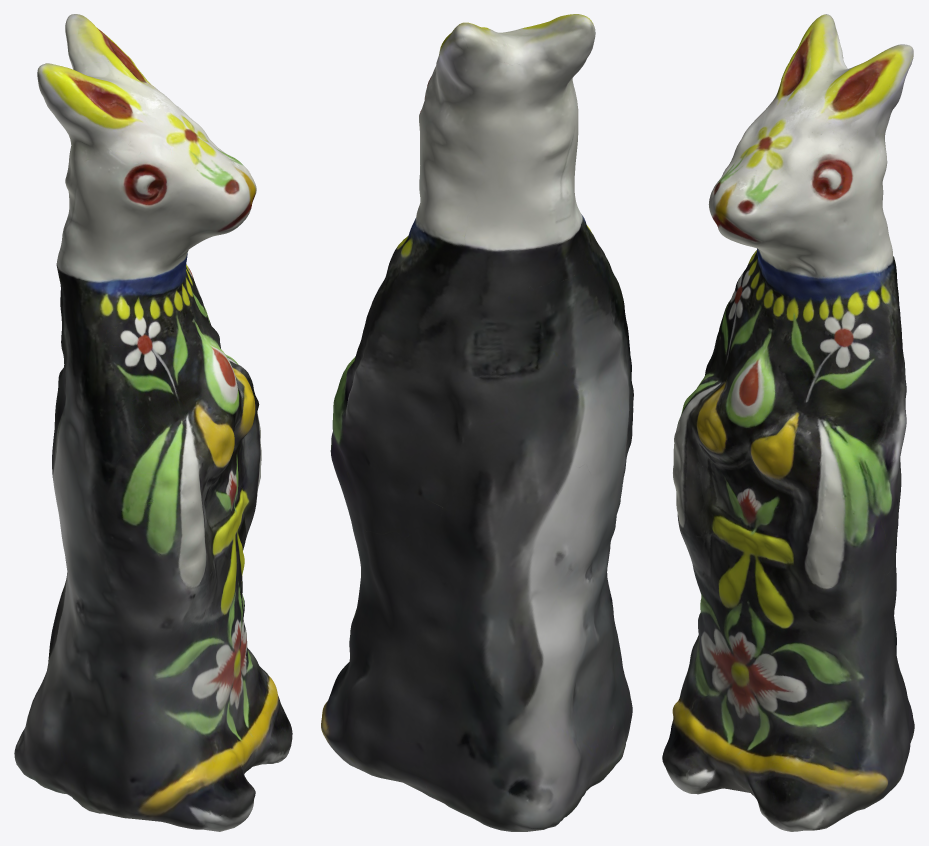
3 renders of one model, left to right at view 1: azimuth 30°, elevation 25°; view 2: azimuth 150°, elevation 25°; view 3: azimuth 270°, elevation 25°, orthographic. The views are drawn at different scales.
Bounding box in the file's own units: 0.2859 × 0.8535 × 0.2687.
Materials: 1 (1 with a texture image).
